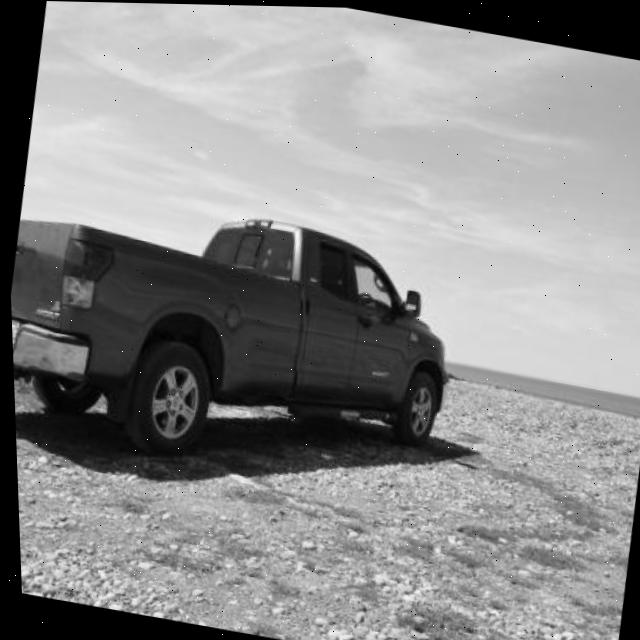car: (5, 170, 466, 506)
